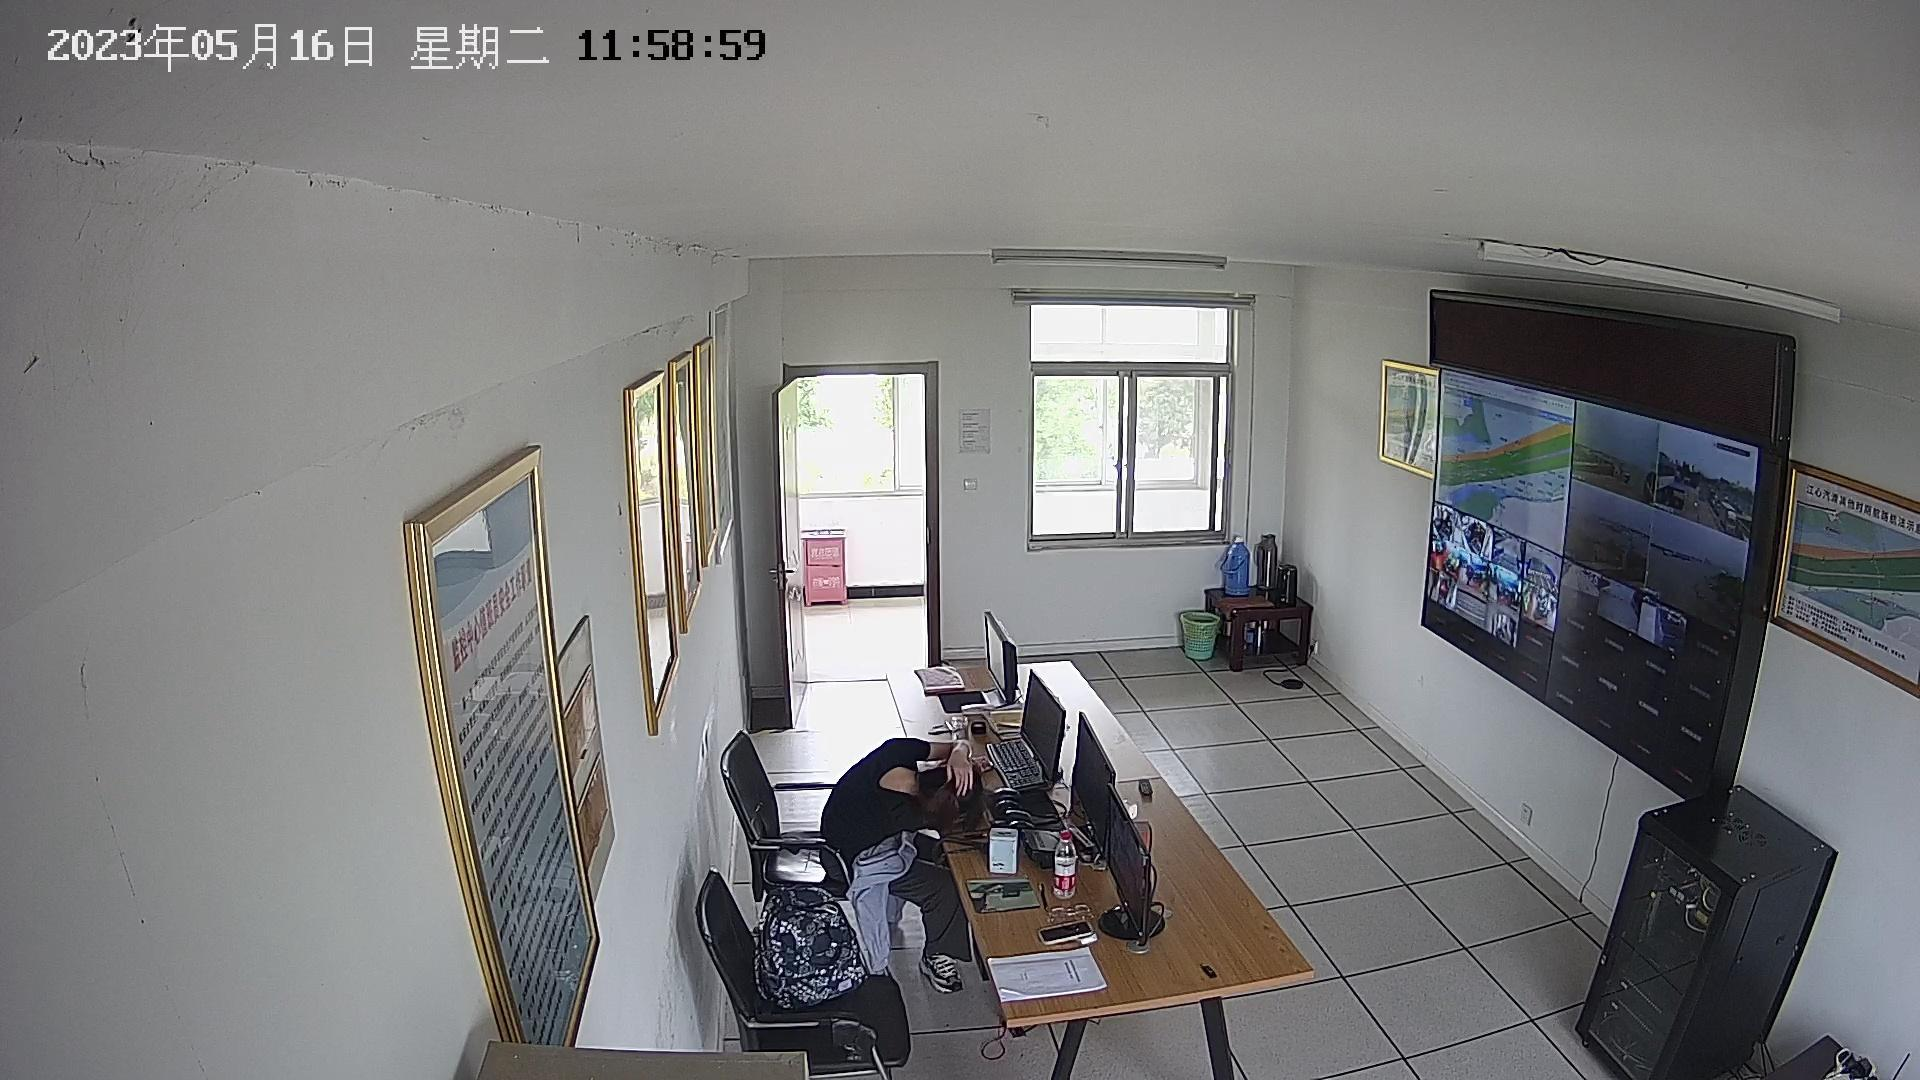sleep: (878, 731, 994, 847)
